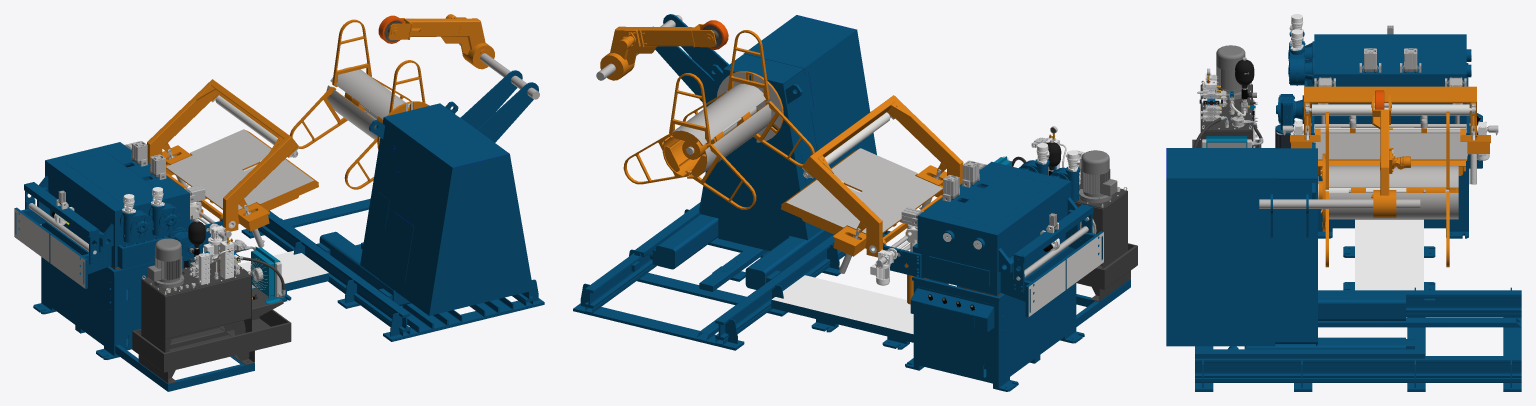
The model's file is MiniFaberL.glb.
3 views of the same model, side by side, from view 1: azimuth 30°, elevation 25°; view 2: azimuth 150°, elevation 25°; view 3: azimuth 270°, elevation 25° (orthographic). The views are drawn at different scales.
Parts seen in each view (by area): view 1: Solido2, Solido3, Superf1; view 2: Solido2, Solido3, Superf1; view 3: Solido3, Solido2, Superf1.
Part boxes in pixels (x1,y1,x2,y2): Solido2: (14, 79, 328, 391); Solido3: (241, 14, 544, 341); Superf1: (344, 60, 425, 189); Solido2: (771, 95, 1137, 391); Solido3: (573, 14, 890, 350); Superf1: (683, 30, 814, 166); Solido3: (1166, 90, 1521, 391); Solido2: (1192, 14, 1498, 290); Superf1: (1325, 112, 1328, 267).
Bounding box in the file's own units: 4.79 × 2.53 × 3.09.
87 materials, 13 textured.
